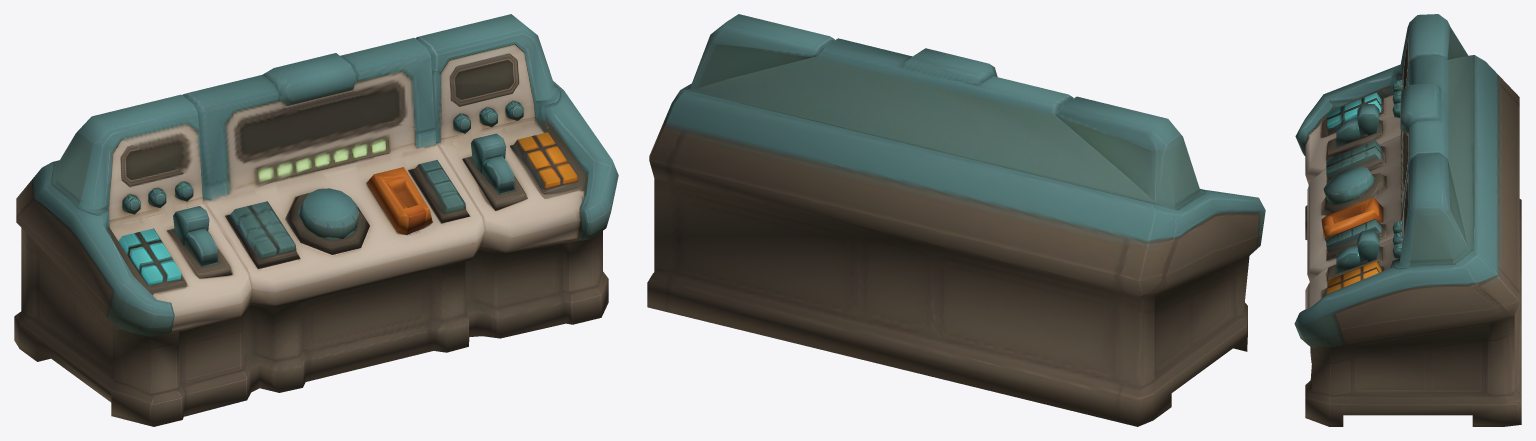
The model's file is LSReal_ControlPanel.fbx.
3 renders of one model, left to right at view 1: azimuth 30°, elevation 25°; view 2: azimuth 150°, elevation 25°; view 3: azimuth 270°, elevation 25°, orthographic. The views are drawn at different scales.
Visible parts, largest first — view 1: tripo_node_44b51199-7dbe-4d7c-88f3-a5ddb5fc6fc1; view 2: tripo_node_44b51199-7dbe-4d7c-88f3-a5ddb5fc6fc1; view 3: tripo_node_44b51199-7dbe-4d7c-88f3-a5ddb5fc6fc1.
Boxes of the visible parts, box(x1,y1,x2,y2) form: tripo_node_44b51199-7dbe-4d7c-88f3-a5ddb5fc6fc1: box(14, 14, 618, 426); tripo_node_44b51199-7dbe-4d7c-88f3-a5ddb5fc6fc1: box(647, 14, 1265, 426); tripo_node_44b51199-7dbe-4d7c-88f3-a5ddb5fc6fc1: box(1294, 14, 1521, 426).
Bounding box in the file's own units: 113 × 55 × 50.14.
Materials: 1 (1 with a texture image).
